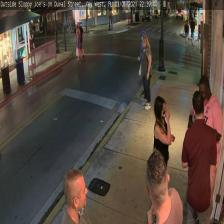person: (181, 91, 217, 224), (186, 74, 222, 200), (145, 152, 183, 223), (153, 96, 175, 206), (61, 168, 91, 224)
